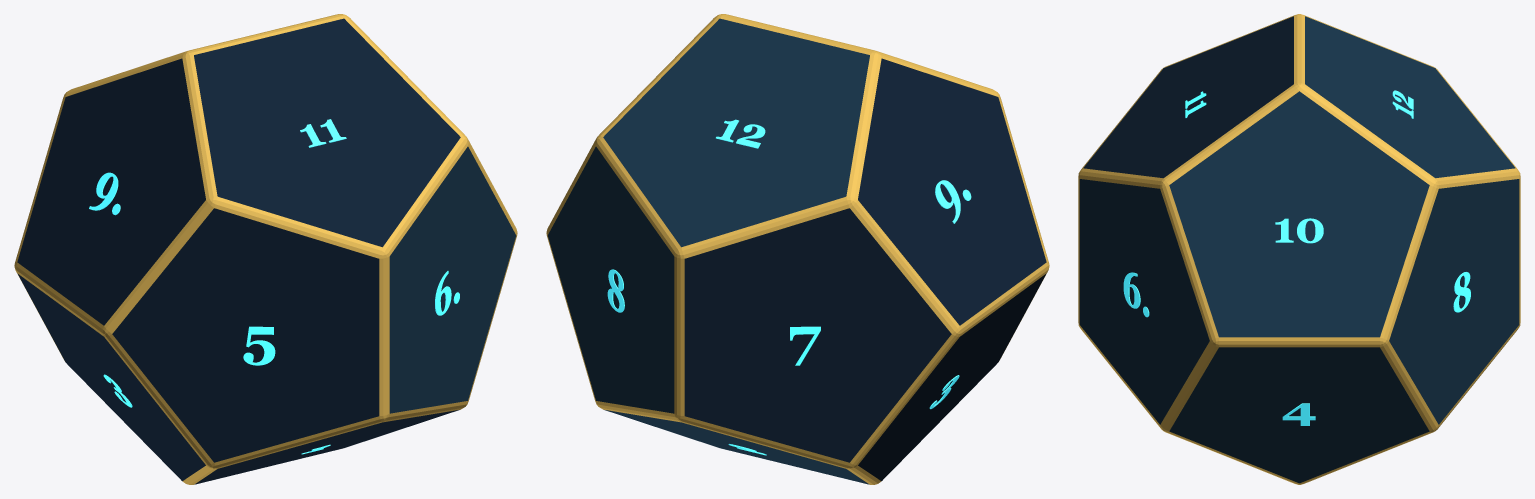
File: d12_leo.glb
3 renders of one model, left to right at view 1: azimuth 30°, elevation 25°; view 2: azimuth 150°, elevation 25°; view 3: azimuth 270°, elevation 25°, orthographic. The views are drawn at different scales.
Parts seen in each view (by area): view 1: DiceBody, Number_05, Number_09; view 2: DiceBody, Number_12, Number_09; view 3: DiceBody, Number_10.
Boxes of the visible parts, left/top/right/bottom form: DiceBody: left=14, top=14, right=517, bottom=484; Number_05: left=243, top=326, right=275, bottom=365; Number_09: left=89, top=172, right=120, bottom=215; DiceBody: left=546, top=14, right=1049, bottom=484; Number_12: left=716, top=119, right=765, bottom=148; Number_09: left=935, top=180, right=971, bottom=223; DiceBody: left=1078, top=14, right=1520, bottom=484; Number_10: left=1275, top=218, right=1323, bottom=243.
Bounding box in the file's own units: 3.7 × 3.7 × 3.7.
